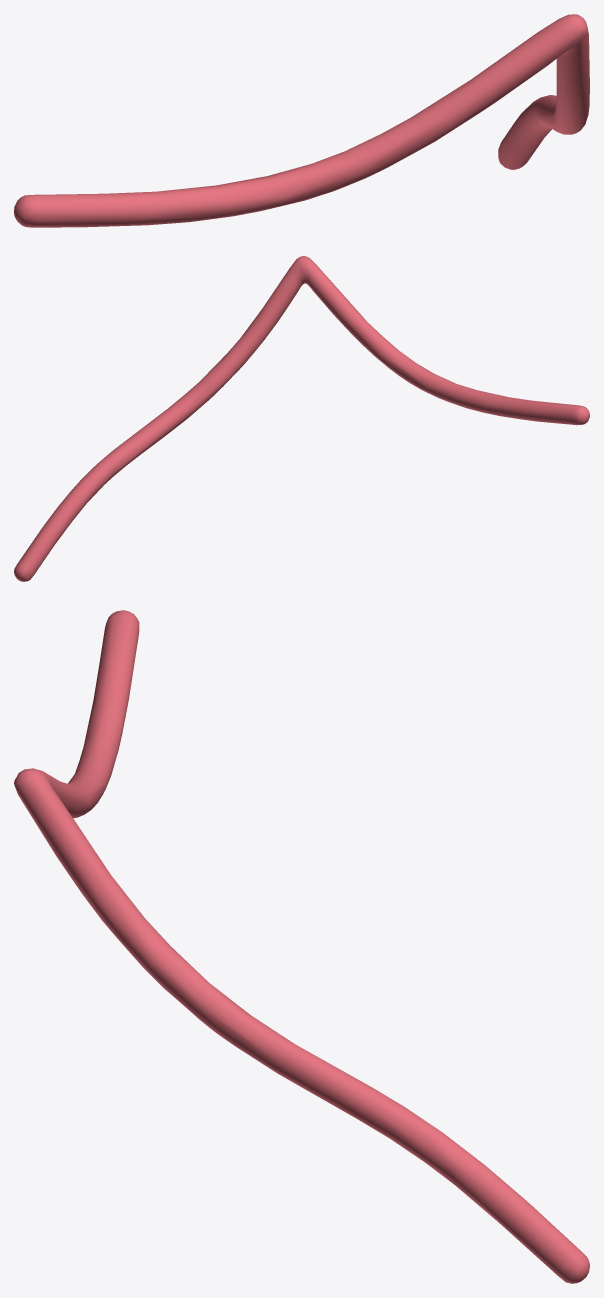
File: fma44884_fj2128.glb
3 renders of one model, top to bottom at view 1: azimuth 30°, elevation 25°; view 2: azimuth 150°, elevation 25°; view 3: azimuth 270°, elevation 25°, orthographic. The views are drawn at different scales.
Visible parts, largest first — view 1: FMA44884_FJ2128; view 2: FMA44884_FJ2128; view 3: FMA44884_FJ2128.
Boxes of the visible parts, <box> form: FMA44884_FJ2128: <box>14,14,589,227</box>; FMA44884_FJ2128: <box>14,256,589,581</box>; FMA44884_FJ2128: <box>14,610,589,1283</box>.
Bounding box in the file's own units: 0.0448 × 0.0231 × 0.0294.
